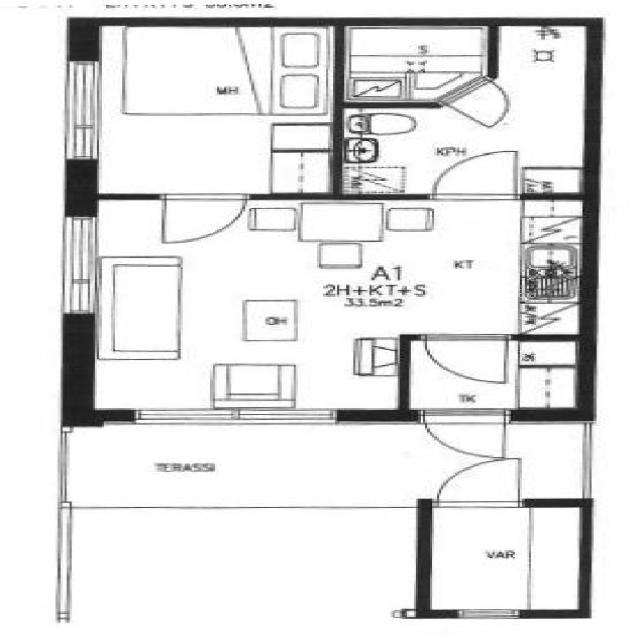door: (425, 456, 529, 513), (425, 146, 526, 203), (416, 334, 515, 387), (414, 408, 514, 460), (154, 191, 252, 244), (440, 72, 513, 128)
window: (47, 210, 105, 322), (50, 58, 108, 168), (116, 406, 350, 430), (446, 606, 530, 622)
zone: (62, 202, 601, 344), (87, 20, 337, 198), (333, 107, 540, 197), (422, 503, 586, 615), (495, 24, 593, 184), (335, 24, 495, 106)
